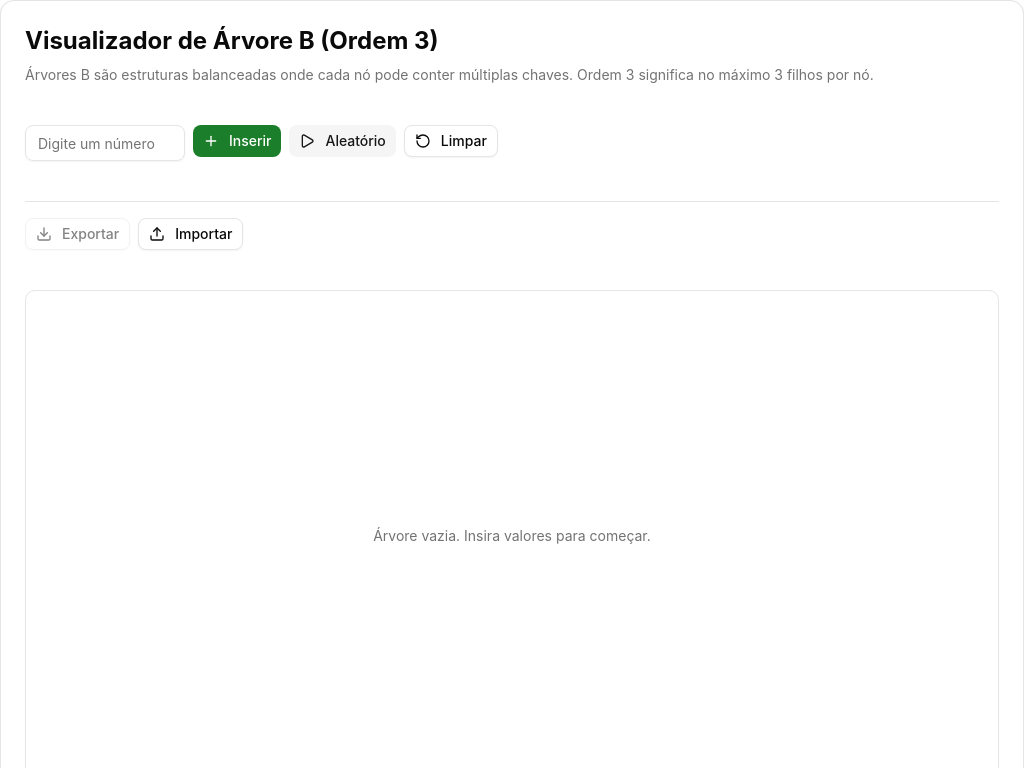
Test case: BTreeVisualizer › shows stats badges after inserting values
The image size is (1024, 768).
Type "50" into the number field with placeholder "Digite um número" at (105, 143), box [25,125,185,161]
Then press Enter
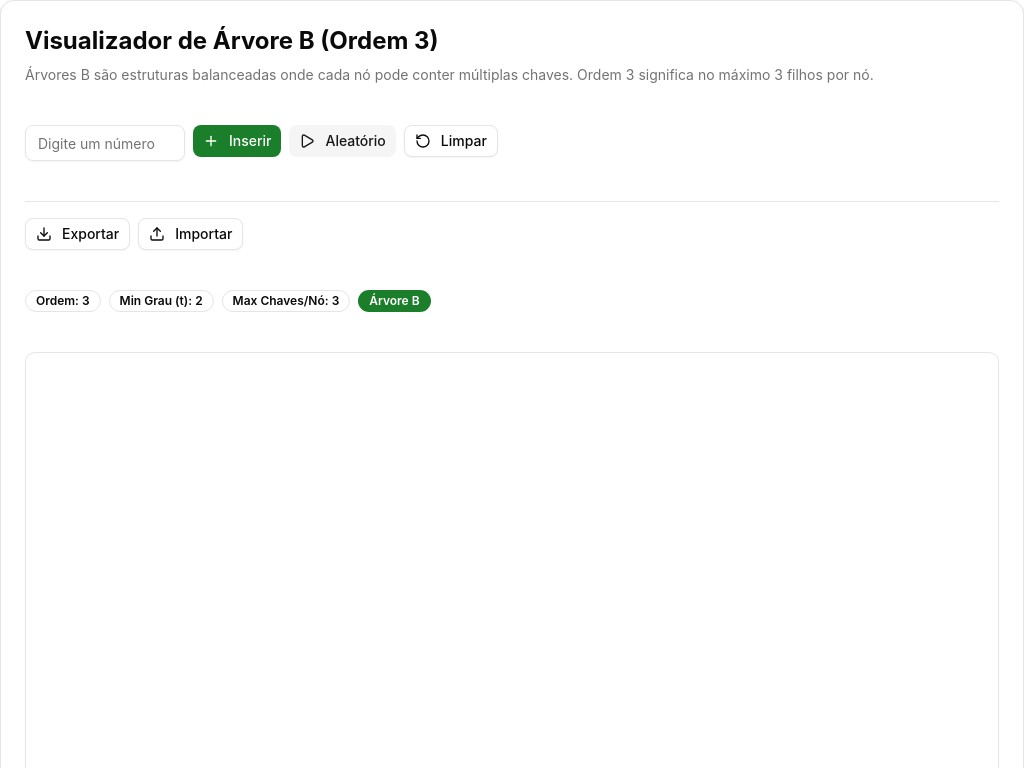
Expected: the text "Ordem: 3" is shown, [25,290,101,312]
Expected: the text "Min Grau (t): 2" is shown, [109,290,214,312]
